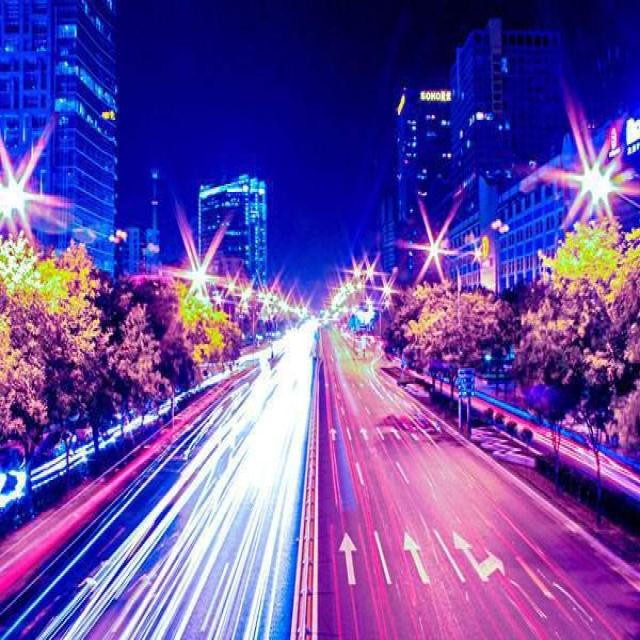other: (141, 211, 422, 503), (4, 152, 94, 325), (548, 208, 628, 322), (566, 118, 626, 232)
